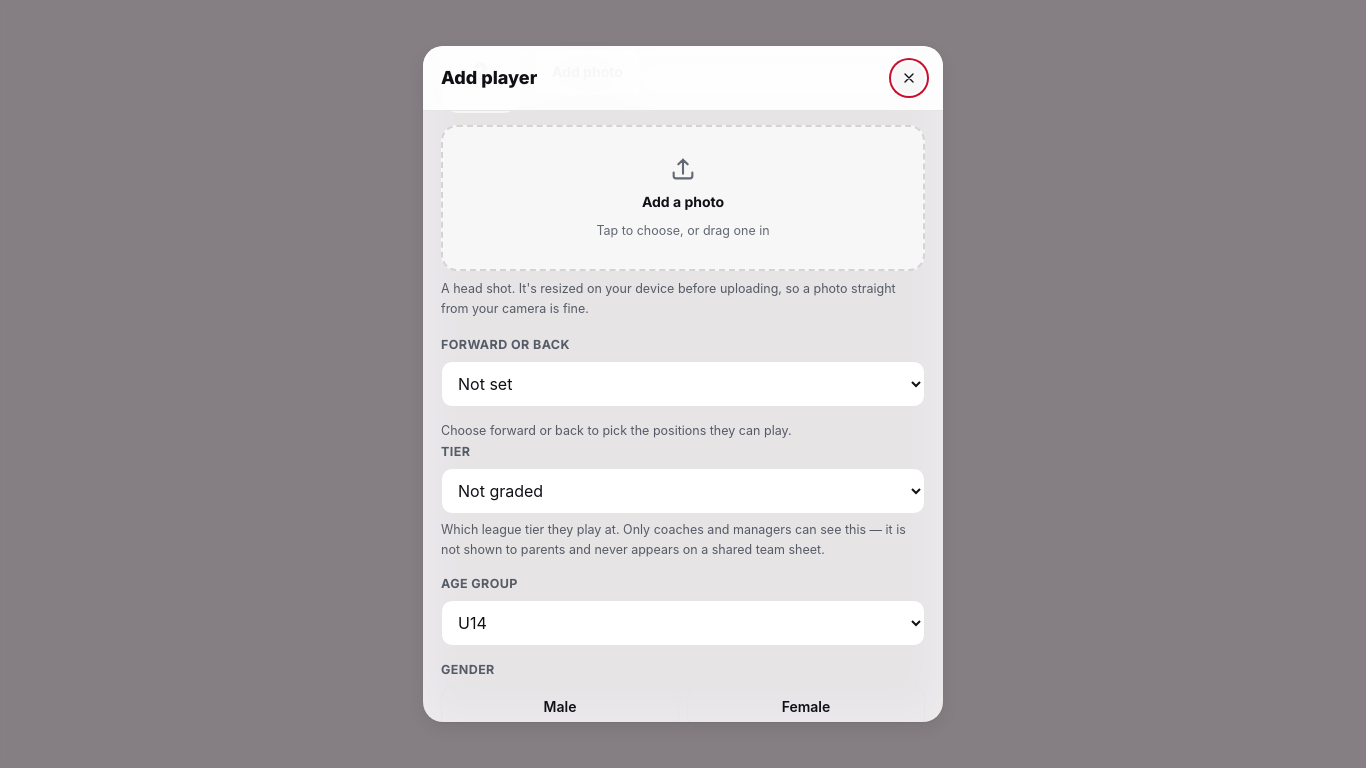
it: PlayerForm — shape and scoping › offers the positions as a sub-selection under forward or back
(page scrolled)
Expected: the text "Choose forward or back to pick the positions they can play." is shown, [441,423,792,438]
Select "Forward" in the dropdown labelled "Forward or back" at (683, 384), box [441,361,925,407]
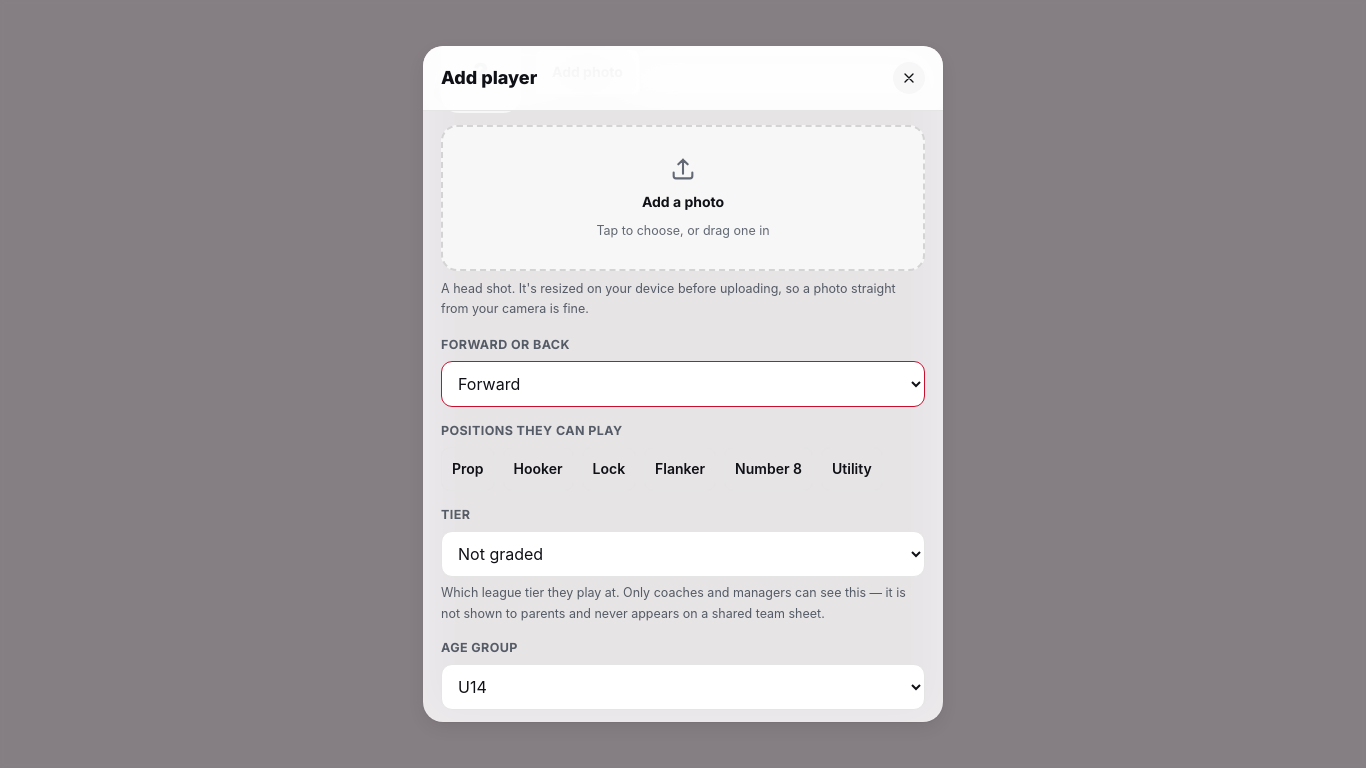
Expected: the checkbox labelled "Prop" is shown, [441,447,494,491]
Expected: the checkbox labelled "Number 8" is shown, [724,447,813,491]
Expected: the checkbox labelled "Utility" is shown, [821,447,883,491]
Select "Back" in the dropdown labelled "Forward or back" at (683, 384), box [441,361,925,407]
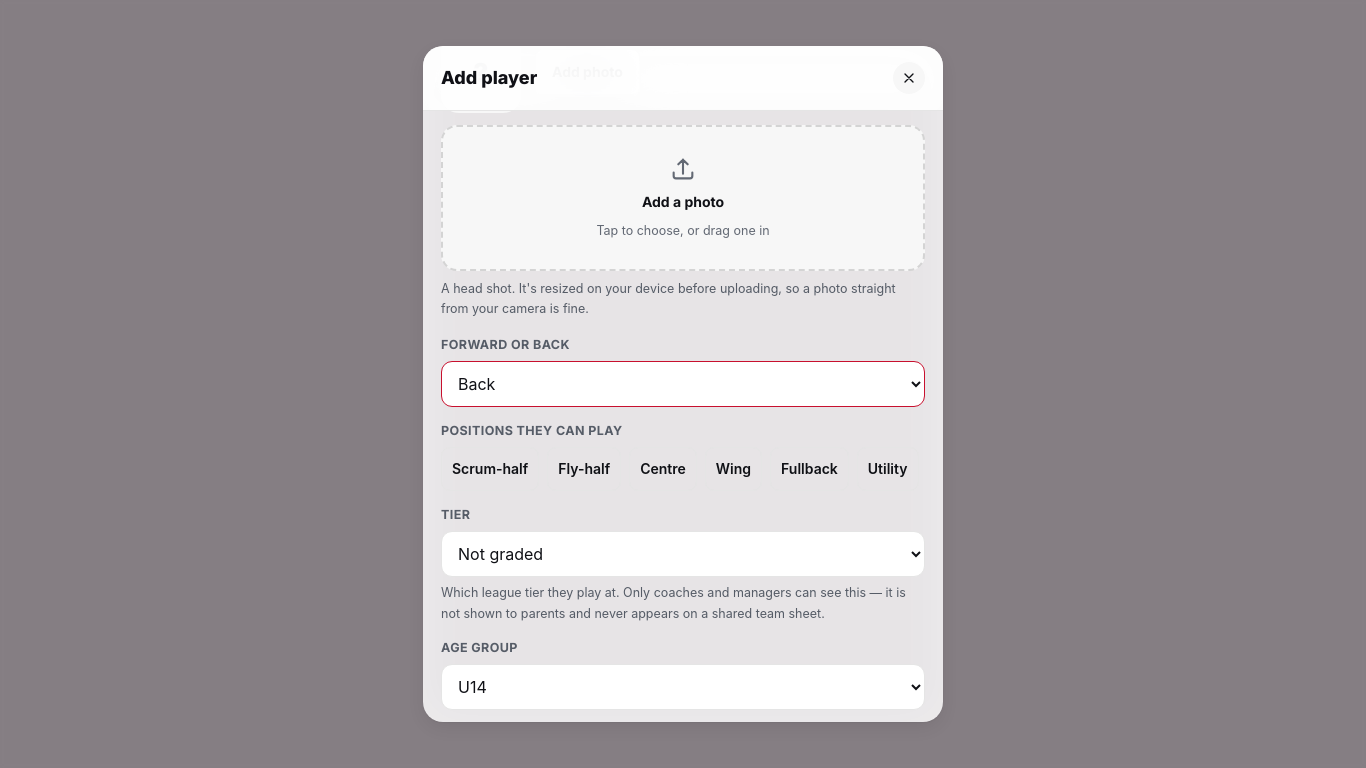
Expected: the checkbox labelled "Scrum-half" is shown, [441,447,539,491]
Expected: the checkbox labelled "Fullback" is shown, [770,447,849,491]
Expected: the text "Prop" is gone
